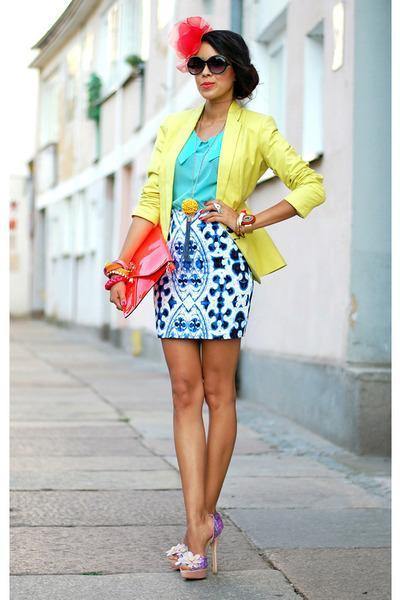bag: (119, 216, 180, 311)
jacket: (140, 89, 325, 293)
shirt: (170, 132, 223, 227)
shoe: (166, 507, 237, 583)
skirt: (145, 210, 262, 349)
sunglass: (187, 53, 229, 74)
